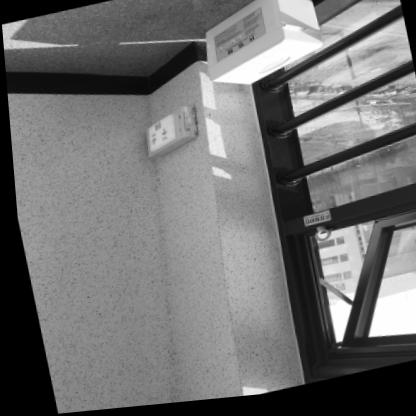DDL: (194, 0, 327, 96)
